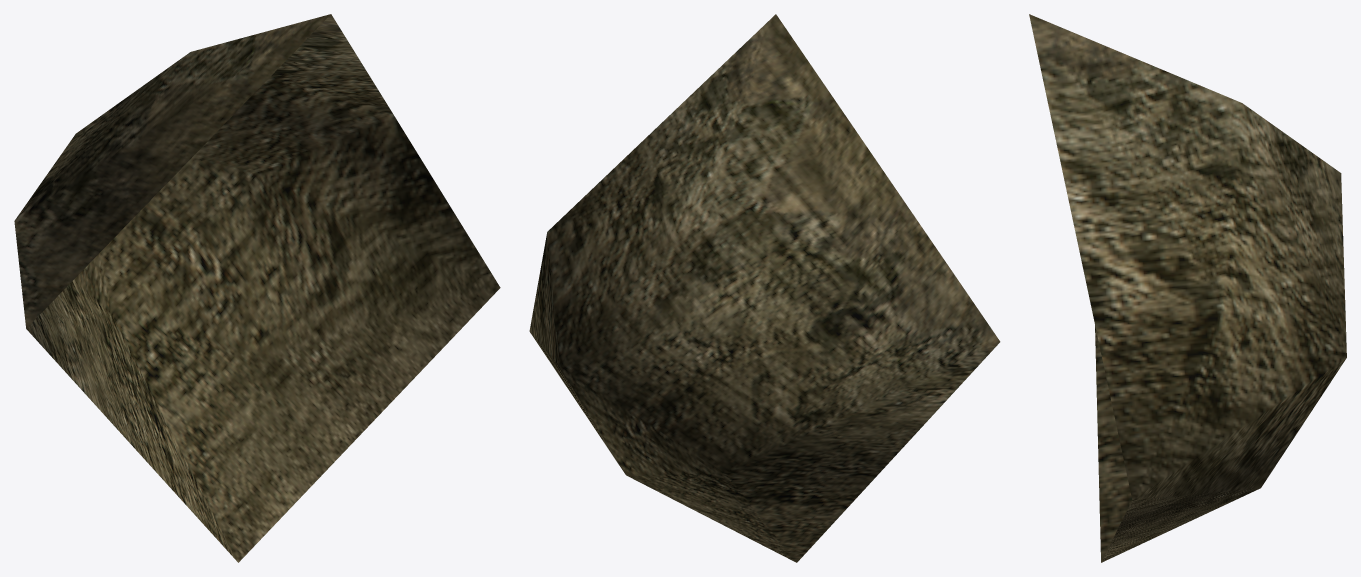
The model's file is MEP_Edge_smStone_05.fbx.
The picture shows the model from 3 angles, left to right: view 1: azimuth 30°, elevation 25°; view 2: azimuth 150°, elevation 25°; view 3: azimuth 270°, elevation 25°; orthographic projection. The views are drawn at different scales.
Parts seen in each view (by area): view 1: MEP_Edge_smStone_05; view 2: MEP_Edge_smStone_05; view 3: MEP_Edge_smStone_05.
Part boxes in pixels (x1,y1,x2,y2): MEP_Edge_smStone_05: (14, 14, 500, 562); MEP_Edge_smStone_05: (529, 14, 1000, 562); MEP_Edge_smStone_05: (1029, 14, 1346, 562).
Size of the model in its own units: 4.73 by 5.12 by 2.55.
